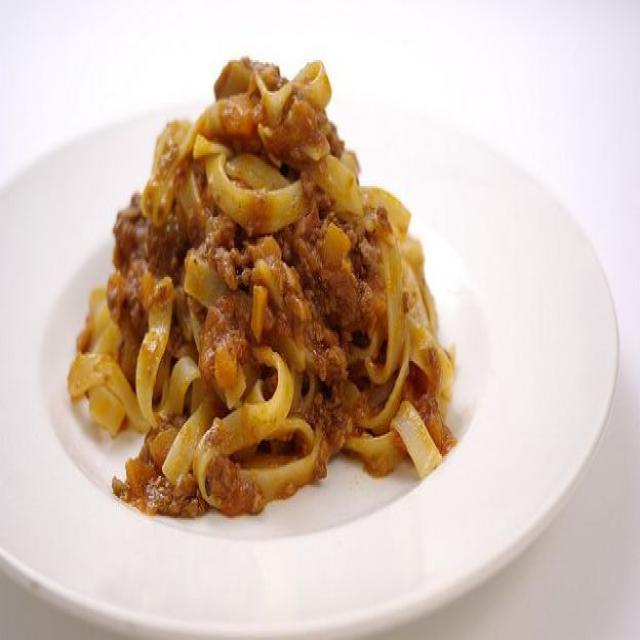Pasta al ragu: (48, 9, 476, 517)
